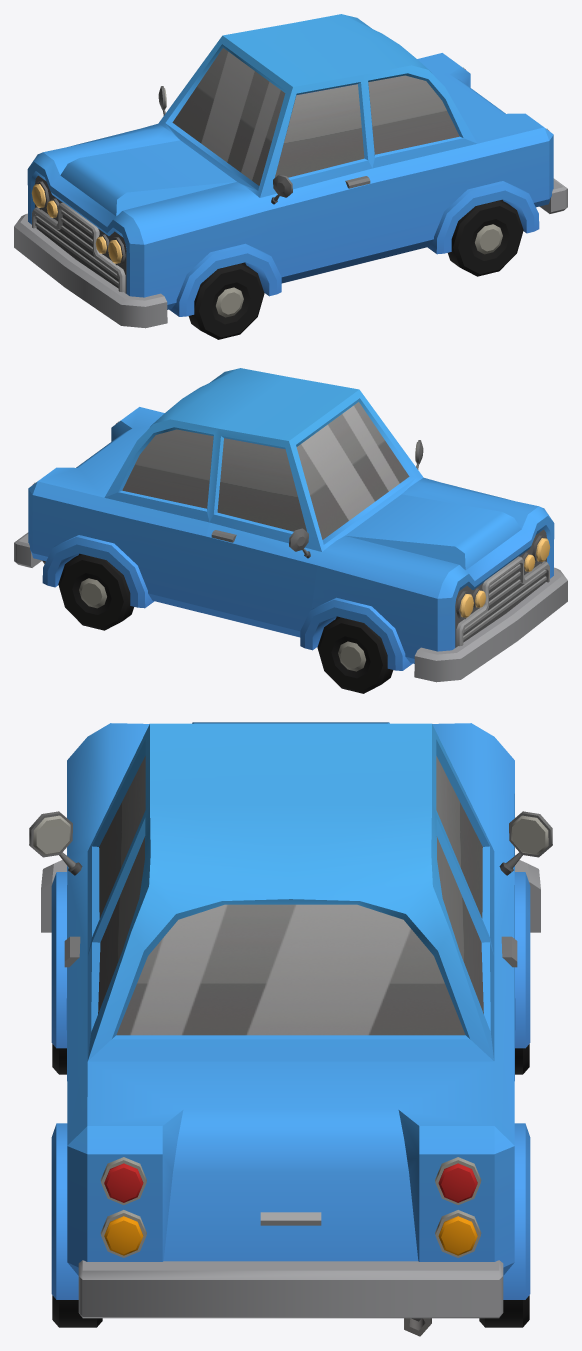
The model's file is Car_7_J.gltf.
3 views of the same model, one above another, from view 1: azimuth 30°, elevation 25°; view 2: azimuth 150°, elevation 25°; view 3: azimuth 270°, elevation 25° (orthographic). The views are drawn at different scales.
Parts seen in each view (by area): view 1: Car_7_J, RL, FL; view 2: Car_7_J, RR, FR; view 3: Car_7_J, RL, RR.
Boxes of the visible parts, <box> form: Car_7_J: <box>14,14,567,328</box>; RL: <box>448,200,523,276</box>; FL: <box>188,263,264,339</box>; Car_7_J: <box>14,368,567,682</box>; RR: <box>58,554,133,630</box>; FR: <box>317,617,393,693</box>; Car_7_J: <box>29,722,552,1336</box>; RL: <box>52,1295,102,1327</box>; RR: <box>479,1295,529,1327</box>.
Bounding box in the file's own units: 3.38 × 1.52 × 1.7.
3 materials, 3 textured.
